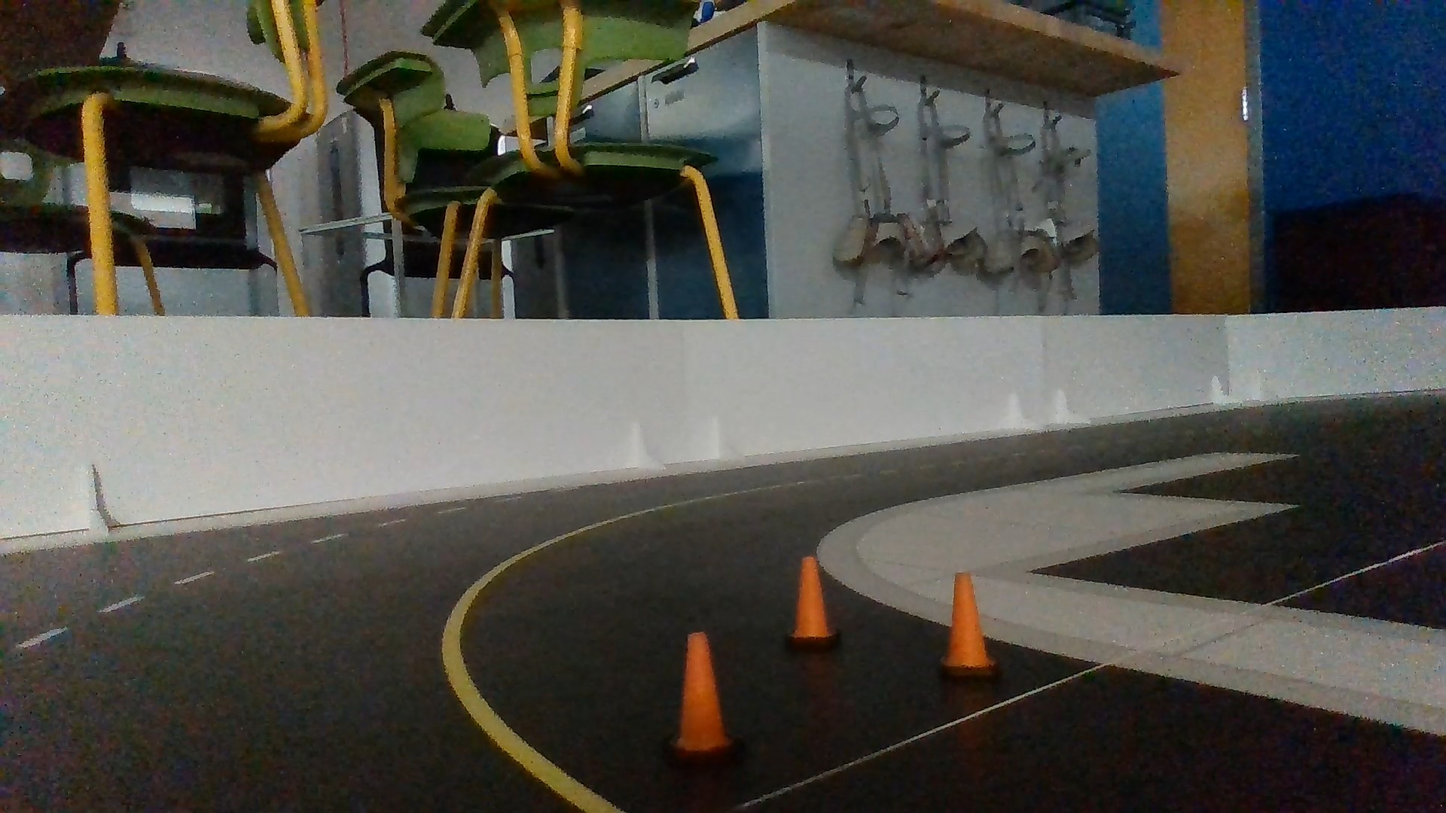Traffic Cone: (669, 632, 739, 763), (941, 573, 998, 678), (788, 556, 838, 649)
